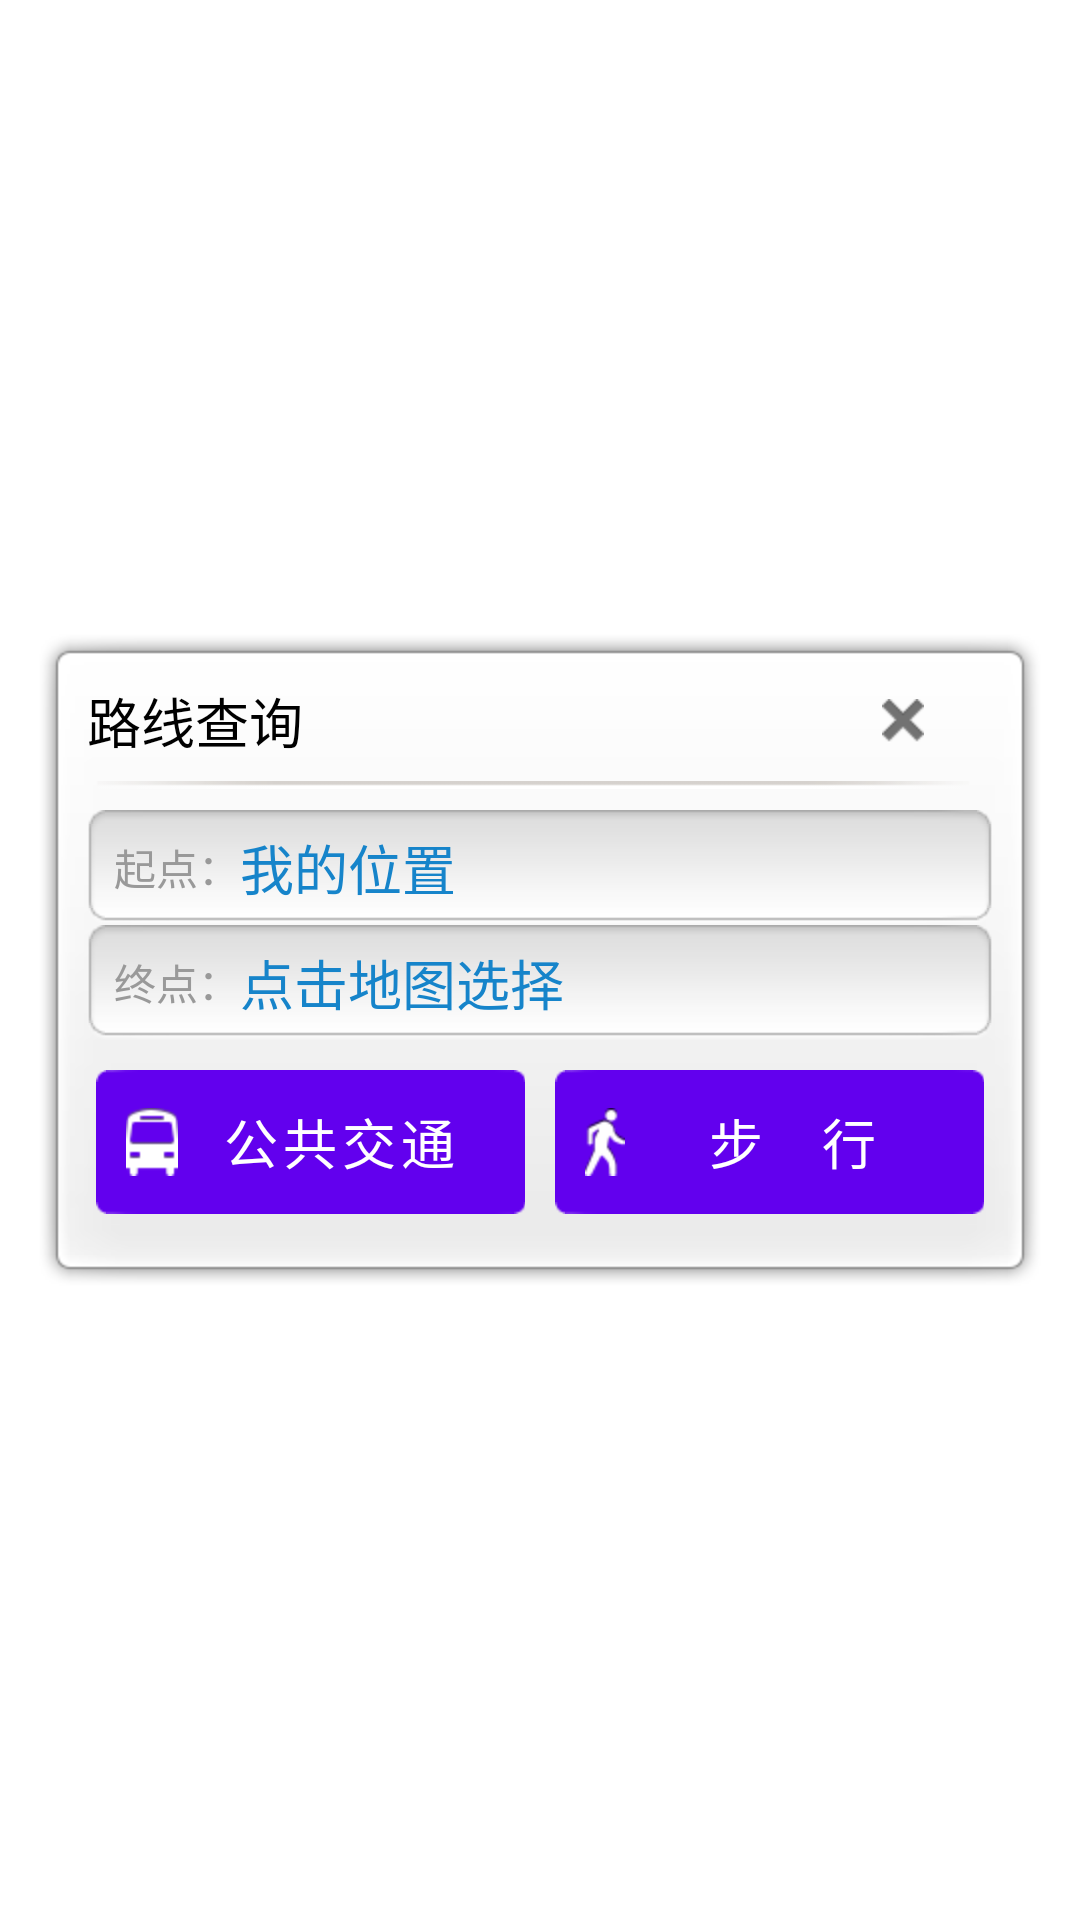

Point at icon controls on the screen. Image size 1080w x 1920h, points as (x,y).
close: (903,720)
